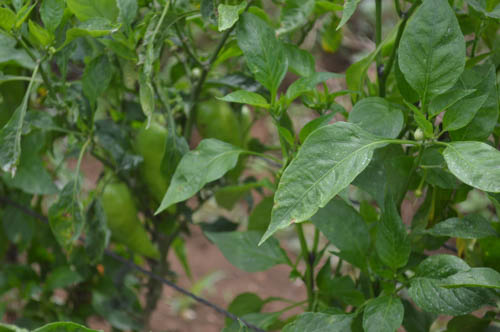ChiliPepper: (99, 181, 159, 256), (143, 120, 179, 212), (199, 96, 239, 163)
